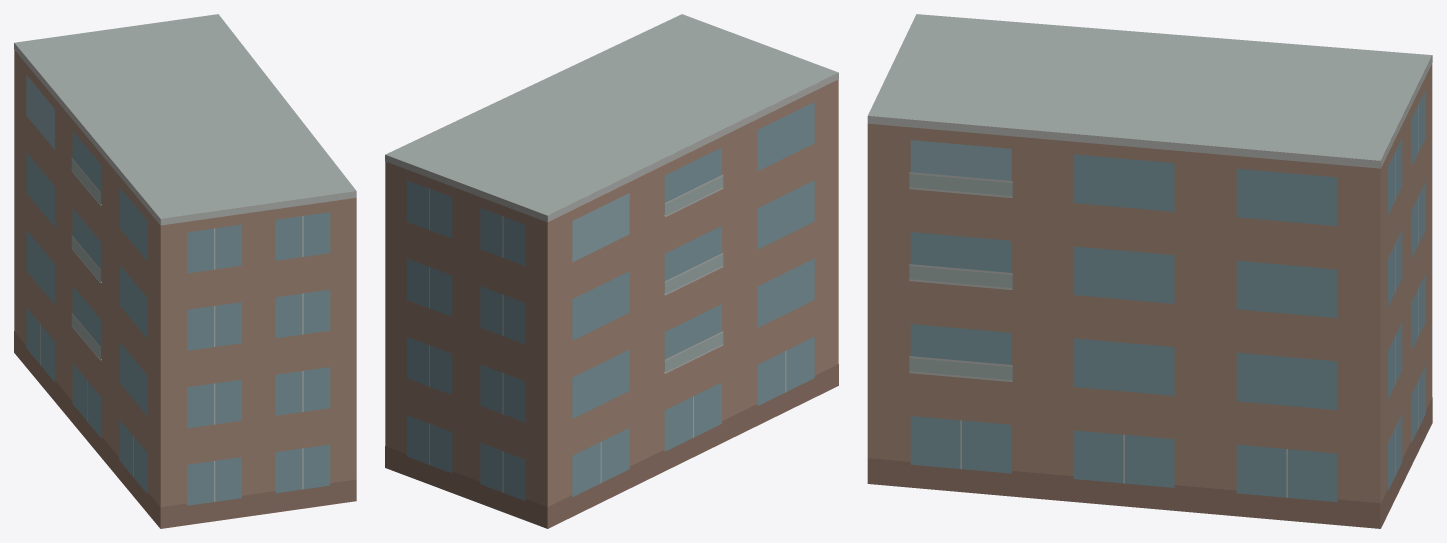
Rendered from survey-upis-32950794.glb.
3 views of the same model, side by side, from view 1: azimuth 30°, elevation 25°; view 2: azimuth 150°, elevation 25°; view 3: azimuth 270°, elevation 25° (orthographic). The views are drawn at different scales.
Parts seen in each view (by area): view 1: survey-upis-32950794.tmp; view 2: survey-upis-32950794.tmp; view 3: survey-upis-32950794.tmp.
Boxes of the visible parts, x1,y1,x2,y2 form: survey-upis-32950794.tmp: [14, 14, 356, 528]; survey-upis-32950794.tmp: [385, 14, 838, 528]; survey-upis-32950794.tmp: [867, 14, 1432, 528].
Bounding box in the file's own units: 9.85 × 11.5 × 16.
